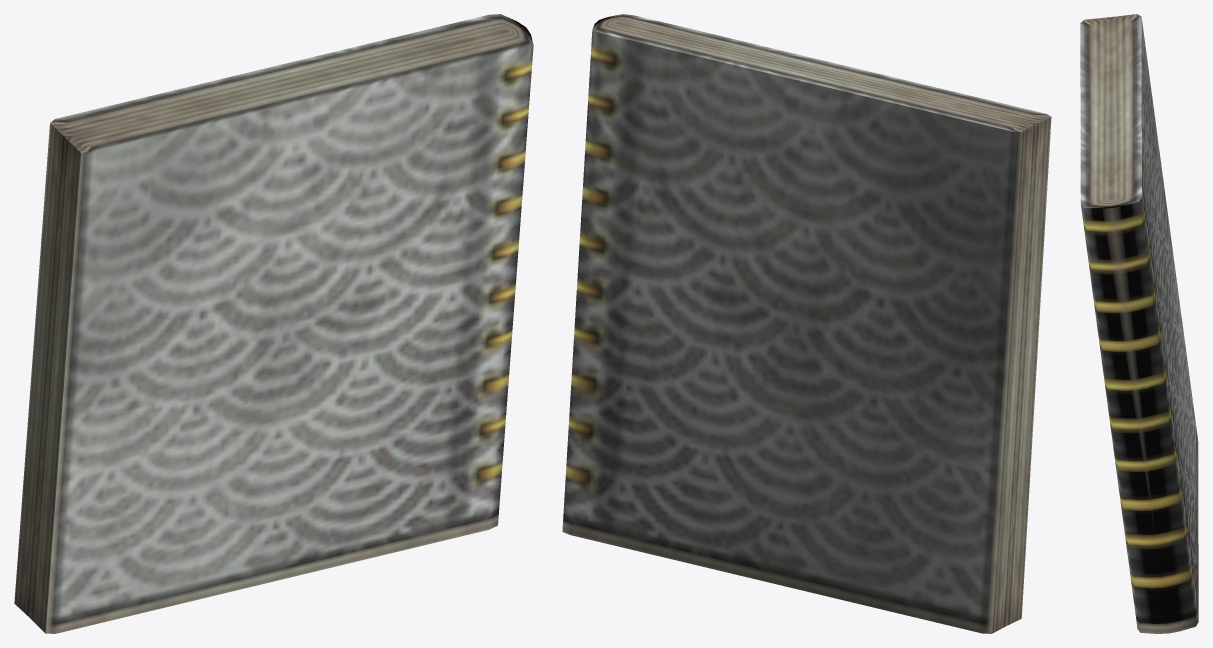
Rendered from zero-b-album0.ico.obj.
3 renders of one model, left to right at view 1: azimuth 30°, elevation 25°; view 2: azimuth 150°, elevation 25°; view 3: azimuth 270°, elevation 25°, orthographic. The views are drawn at different scales.
Bounding box in the file's own units: 3.58 × 3.79 × 0.9373.
1 material, 1 textured.
